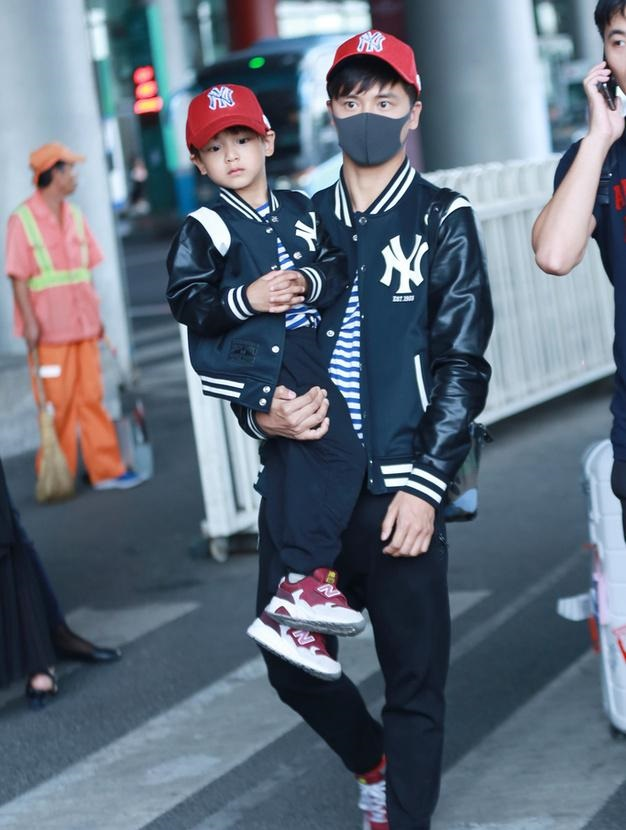face: (202, 114, 260, 192), (599, 21, 626, 94), (57, 156, 76, 192)
face_mask: (337, 66, 407, 165)
